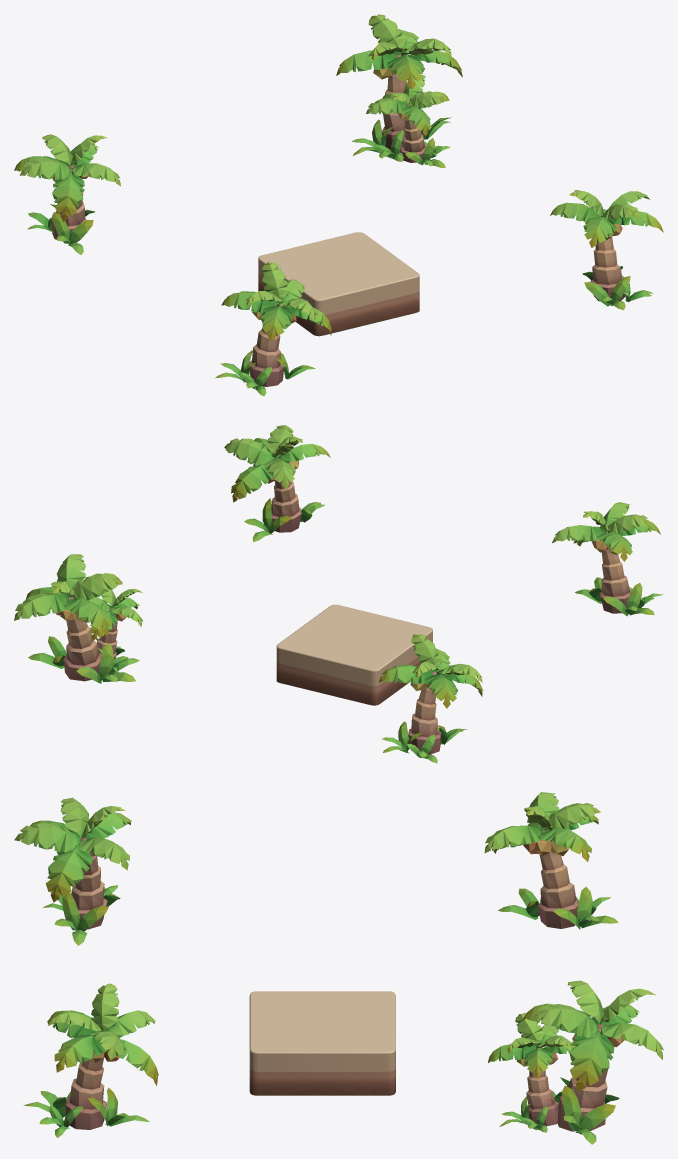
The model's file is Props.fbx.
The picture shows the model from 3 angles, top to bottom: view 1: azimuth 30°, elevation 25°; view 2: azimuth 150°, elevation 25°; view 3: azimuth 270°, elevation 25°; orthographic projection. The views are drawn at different scales.
Parts seen in each view (by area): view 1: Box02, yezishu01, yezishu02, yezishu02 (1), yezishu02 (2); view 2: Box02, yezishu01, yezishu02 (2), yezishu02 (1), yezishu02; view 3: Box02, yezishu01, yezishu02 (2), yezishu02, yezishu02 (1).
Part boxes in pixels (x1,y1,x2,y2): Box02: (258, 232, 419, 336); yezishu01: (336, 14, 462, 167); yezishu02: (215, 262, 331, 396); yezishu02 (1): (14, 134, 120, 254); yezishu02 (2): (550, 190, 663, 310); Box02: (276, 604, 432, 705); yezishu01: (14, 554, 142, 683); yezishu02 (2): (224, 425, 330, 541); yezishu02 (1): (378, 634, 483, 763); yezishu02: (552, 502, 663, 616); Box02: (249, 991, 395, 1095); yezishu01: (488, 980, 663, 1144); yezishu02 (2): (23, 983, 158, 1137); yezishu02: (14, 797, 131, 945); yezishu02 (1): (484, 792, 618, 929).
Bounding box in the file's own units: 34.58 × 10.64 × 35.6.
2 materials, 2 textured.
